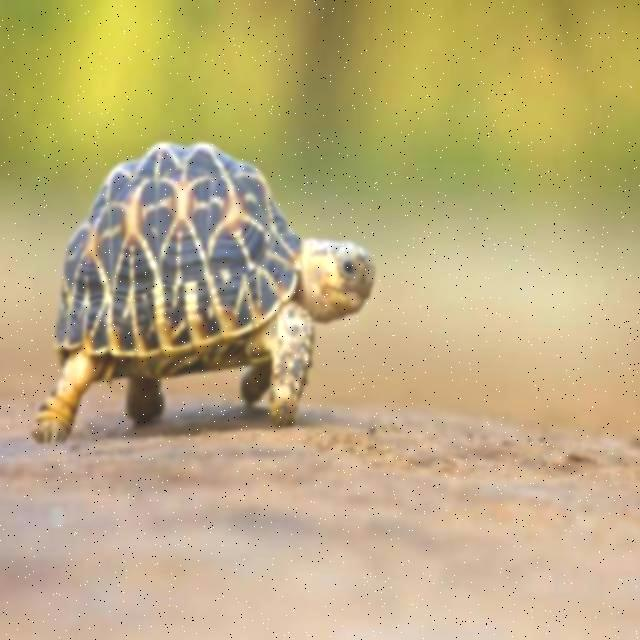tortoise: (36, 136, 384, 476)
